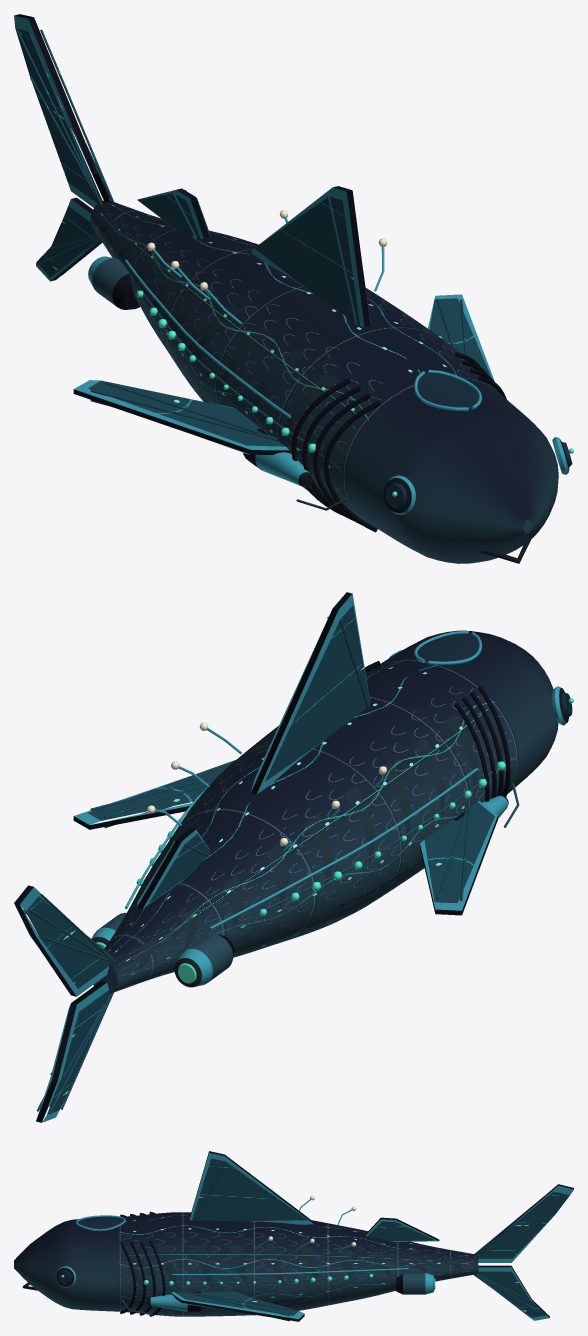
3 views of the same model, one above another, from view 1: azimuth 30°, elevation 25°; view 2: azimuth 150°, elevation 25°; view 3: azimuth 270°, elevation 25° (orthographic). The views are drawn at different scales.
Visible parts, largest first — view 1: tiger_shark_hull; view 2: tiger_shark_hull; view 3: tiger_shark_hull.
Part boxes in pixels (x1,y1,x2,y2): tiger_shark_hull: (14,14,573,563); tiger_shark_hull: (14,592,573,1122); tiger_shark_hull: (14,1151,573,1321).
Size of the model in its own units: 35.12 by 26.52 by 80.
Materials: 1 (1 with a texture image).
